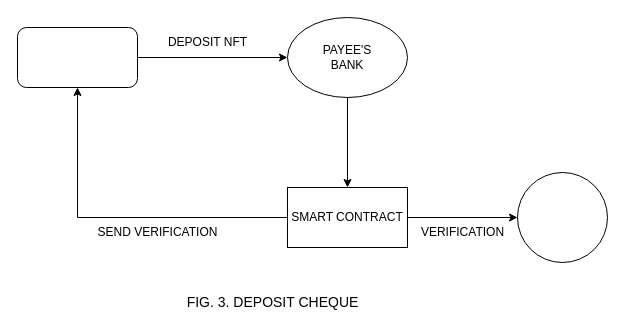
Some shapes in this 625 by 335 pixel diagram are drawn without their labels. The box of each missing label's shape, as (x1, y1, x2, y2) in pixels:
BLOCKCHAIN: (516, 172, 608, 262)
PAYEE: (16, 26, 138, 88)
